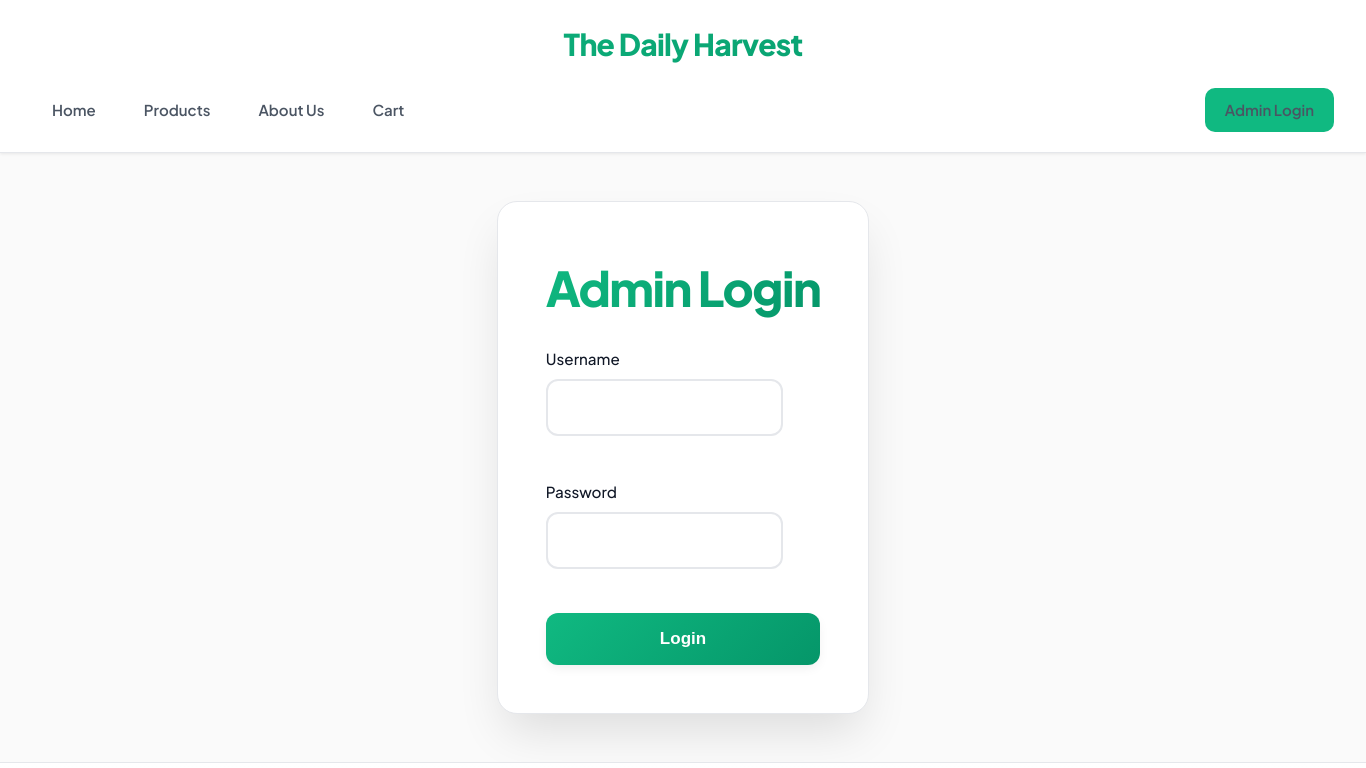
Test: LoginPage › should show an error message and set aria-invalid on failed login
Type "wrong" into the field labelled "Username" at (664, 408), box [546,379,783,436]
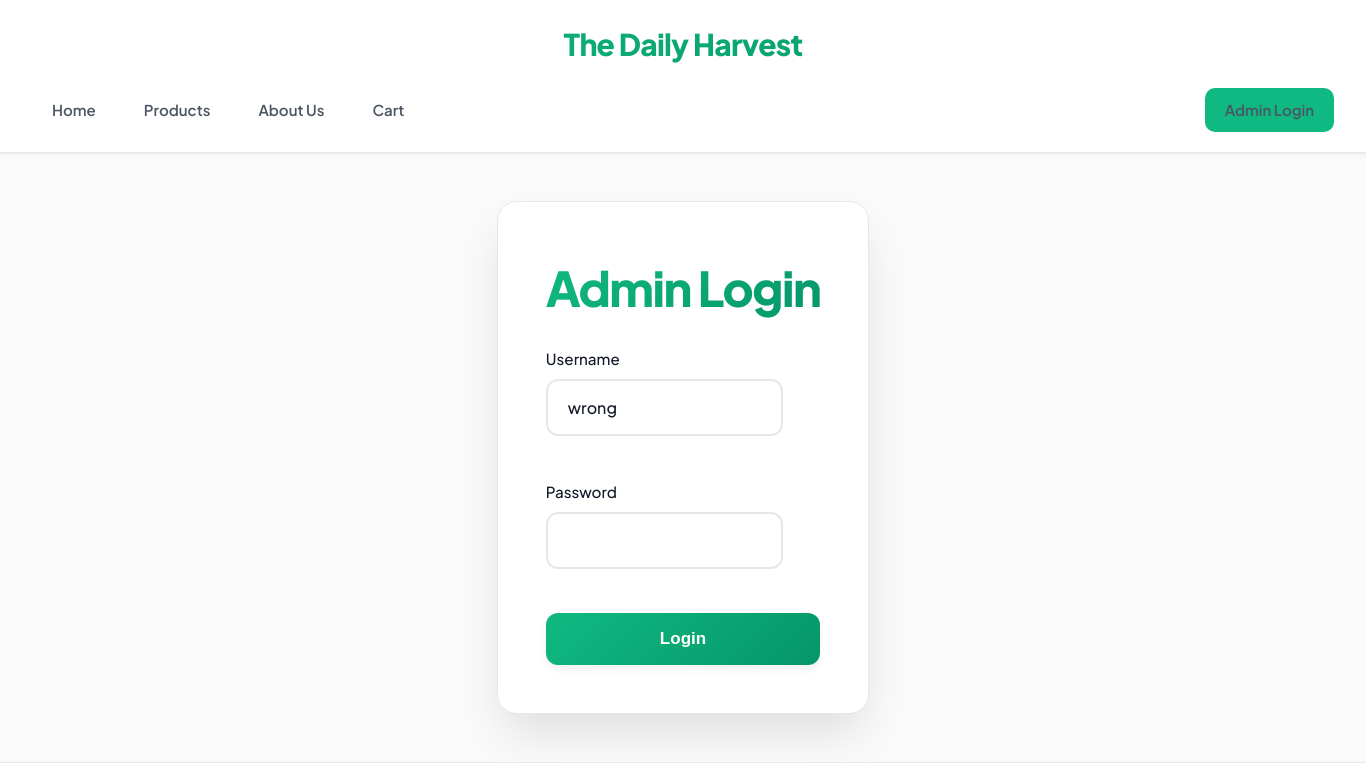
Type "user" into the password field labelled "Password" at (664, 541), box [546,512,783,569]
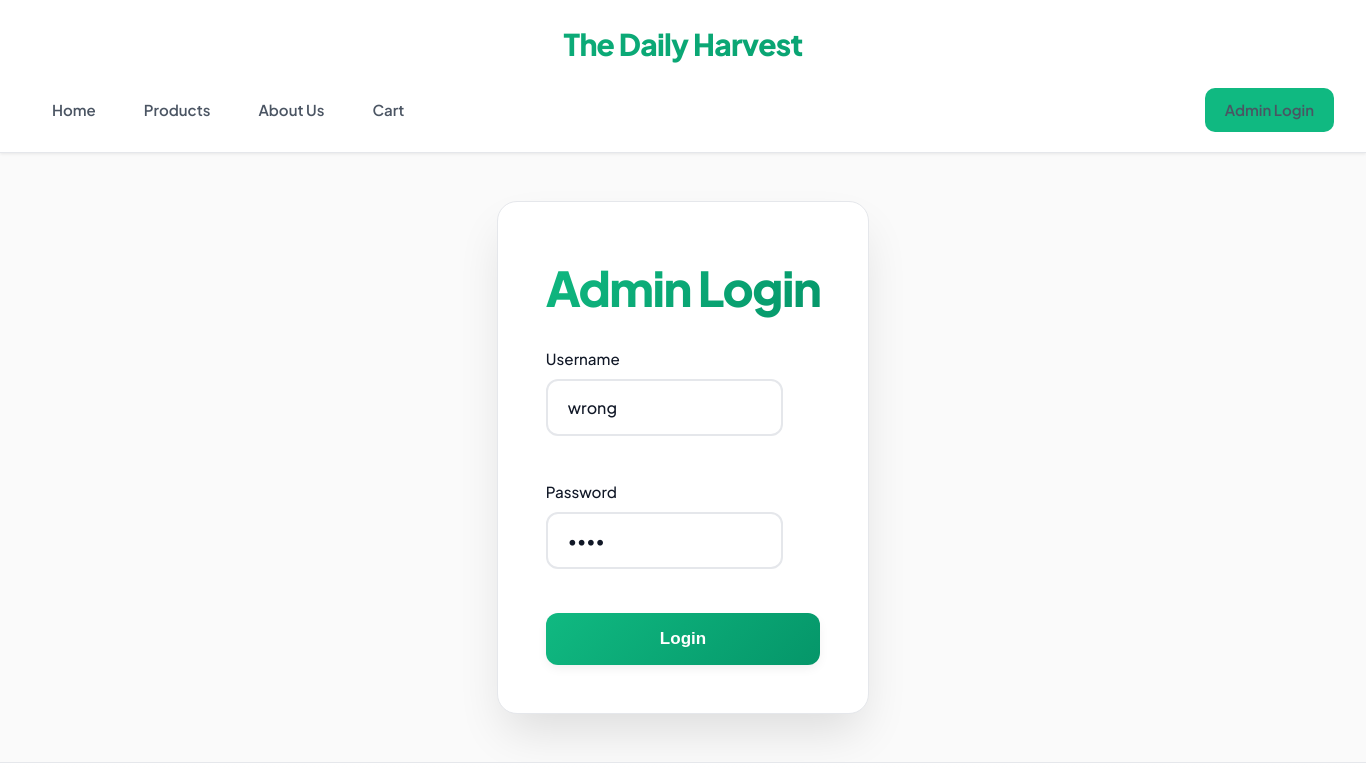
Click the button "Login" at (683, 639), box [546,613,820,665]
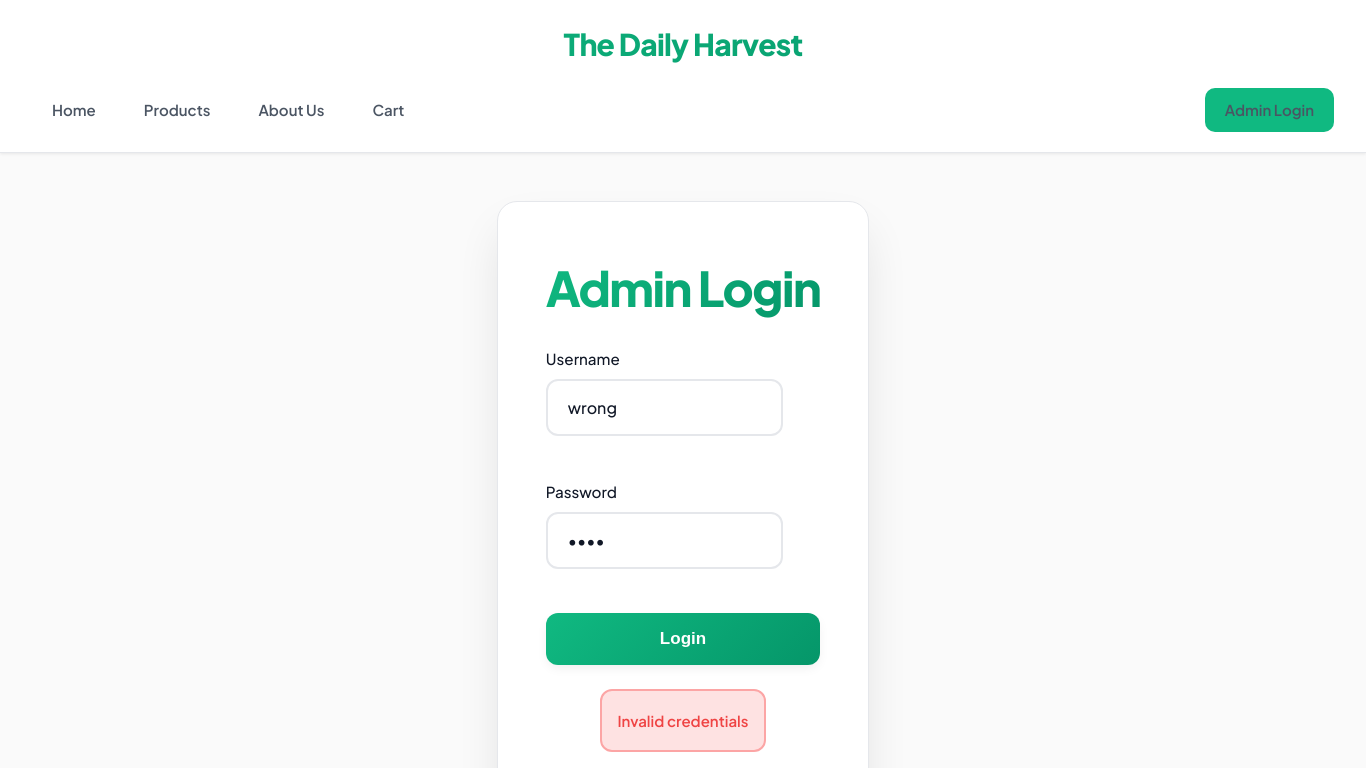
Check: the message "Invalid credentials" is shown, box [600,689,766,752]
